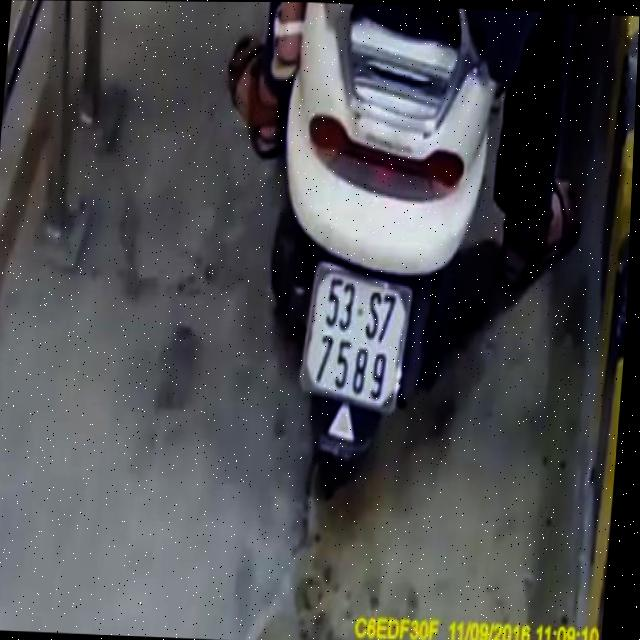motorcycle: (242, 2, 489, 513)
plate: (293, 257, 422, 414)
